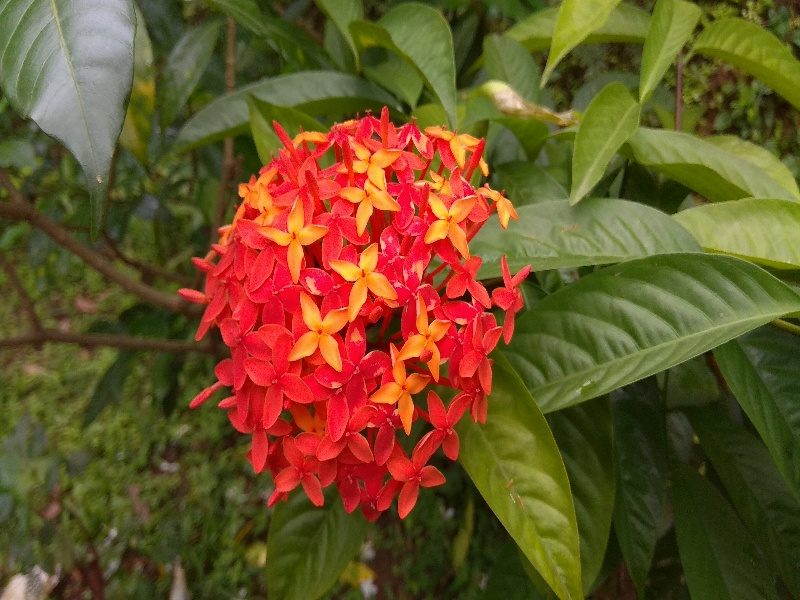Ixora: (185, 62, 550, 542)
